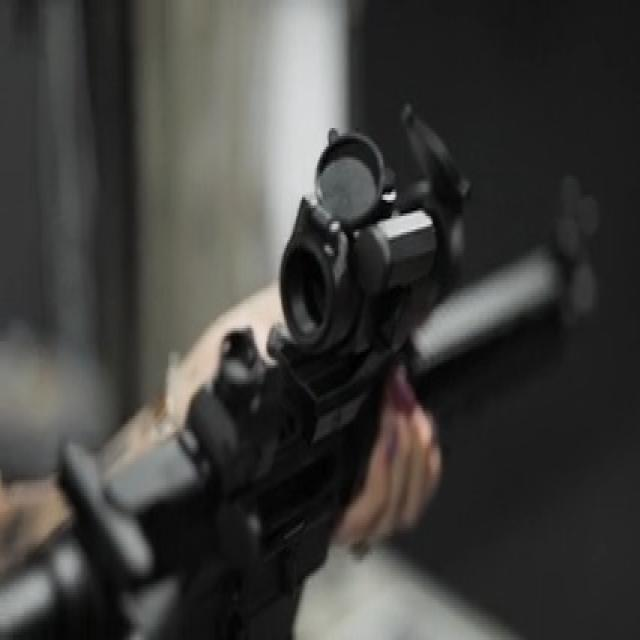Gun_Holder: (17, 94, 603, 640)
